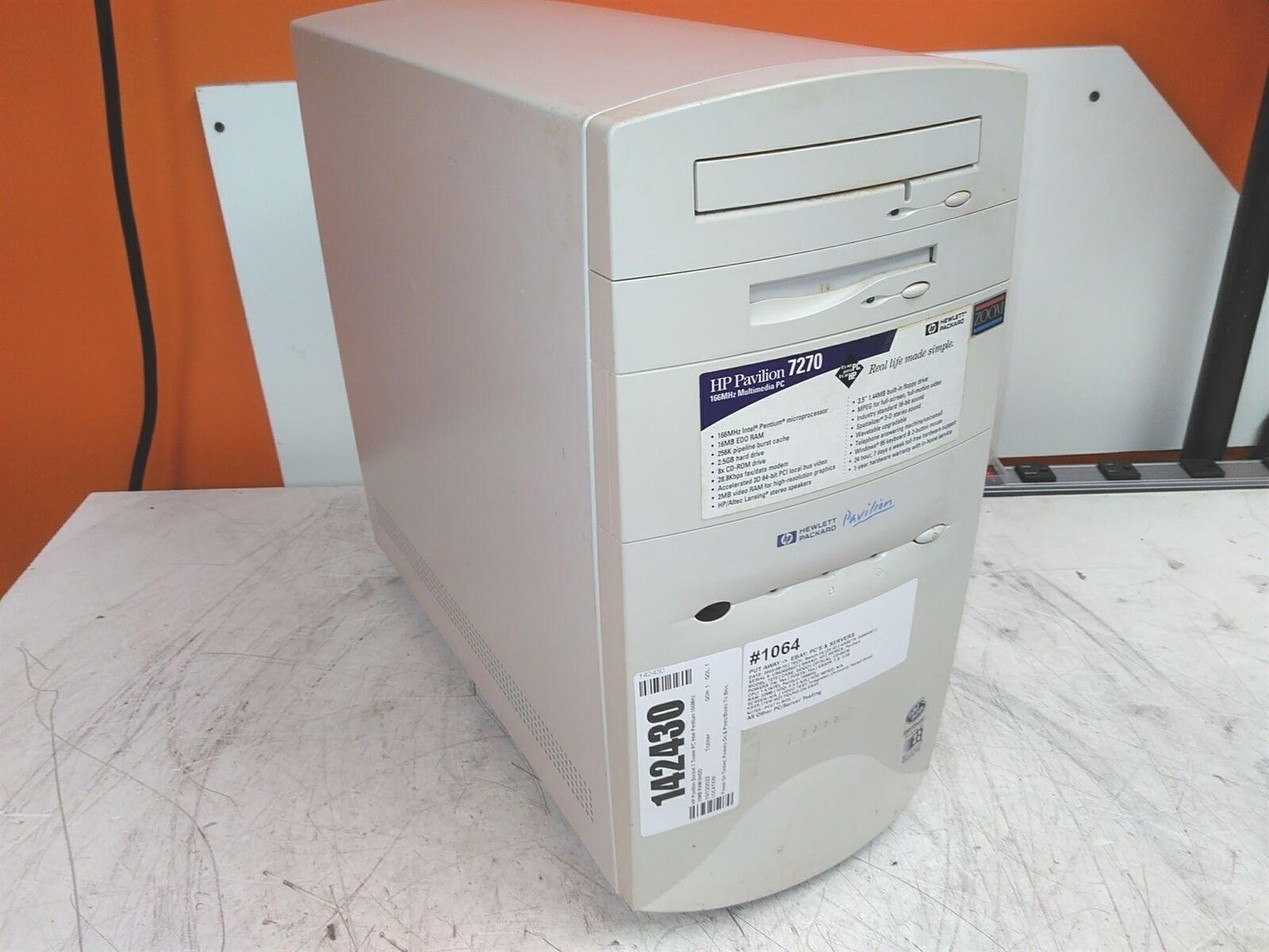computer_tower: (290, 0, 1023, 919)
